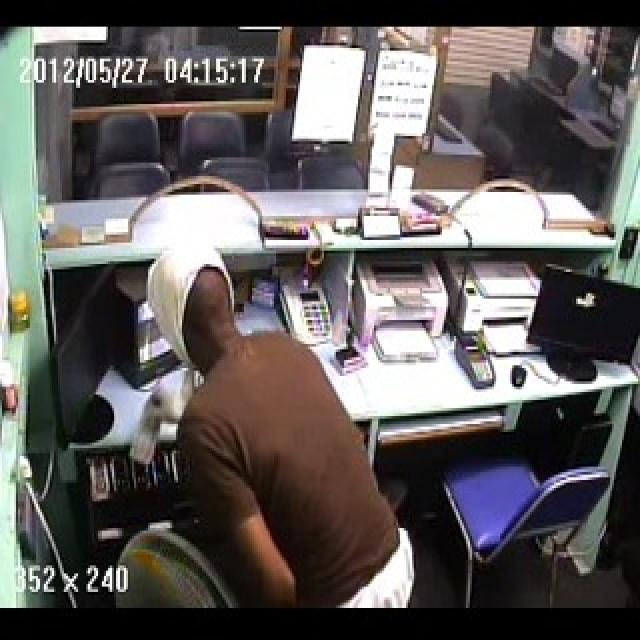thief: (107, 247, 436, 613)
